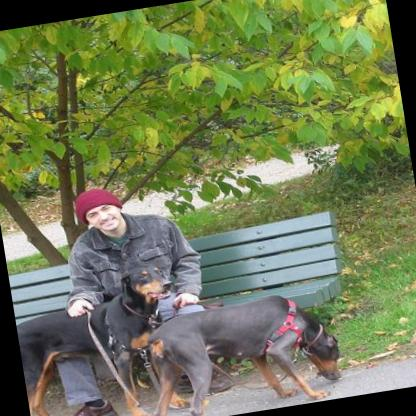Doberman: (9, 261, 190, 416), (138, 285, 346, 416)
